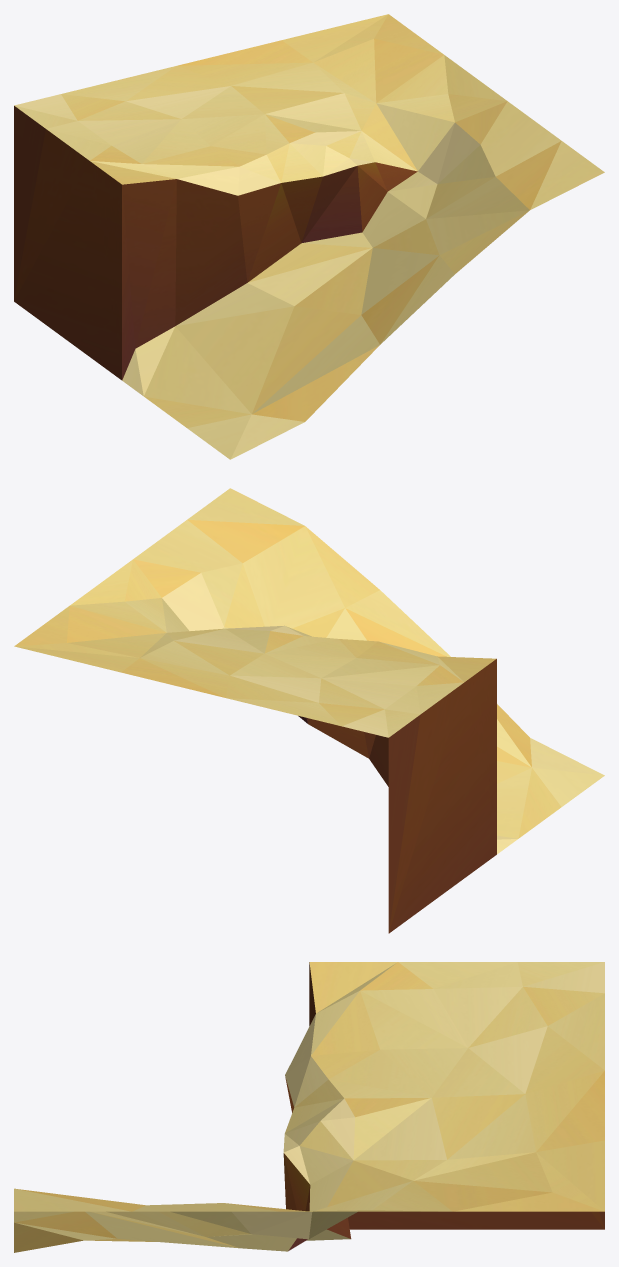
File: GL-Terrain-part-19-LOD3.fbx
3 views of the same model, one above another, from view 1: azimuth 30°, elevation 25°; view 2: azimuth 150°, elevation 25°; view 3: azimuth 270°, elevation 25° (orthographic). The views are drawn at different scales.
Visible parts, largest first — view 1: GL_Terrain_part_19; view 2: GL_Terrain_part_19; view 3: GL_Terrain_part_19.
Part boxes in pixels (left/top/right/bottom): GL_Terrain_part_19: left=14, top=14, right=604, bottom=459; GL_Terrain_part_19: left=14, top=488, right=604, bottom=933; GL_Terrain_part_19: left=14, top=962, right=604, bottom=1252.
Bounding box in the file's own units: 6 × 3 × 6.
